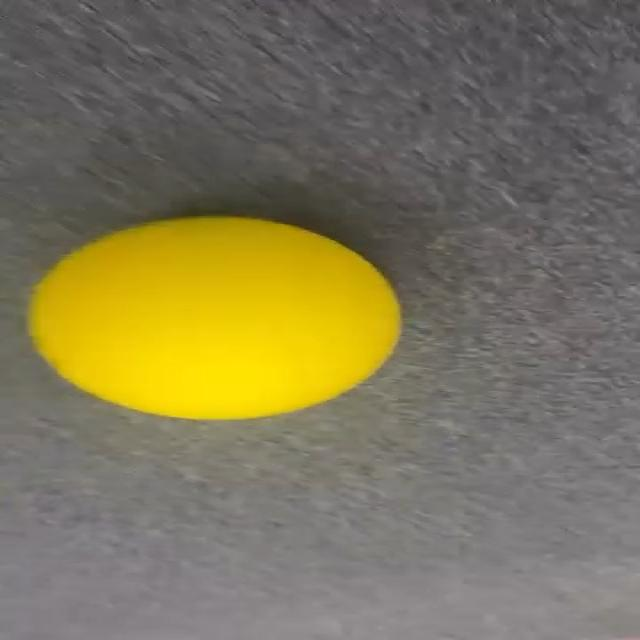Fuels: (28, 217, 396, 418)
